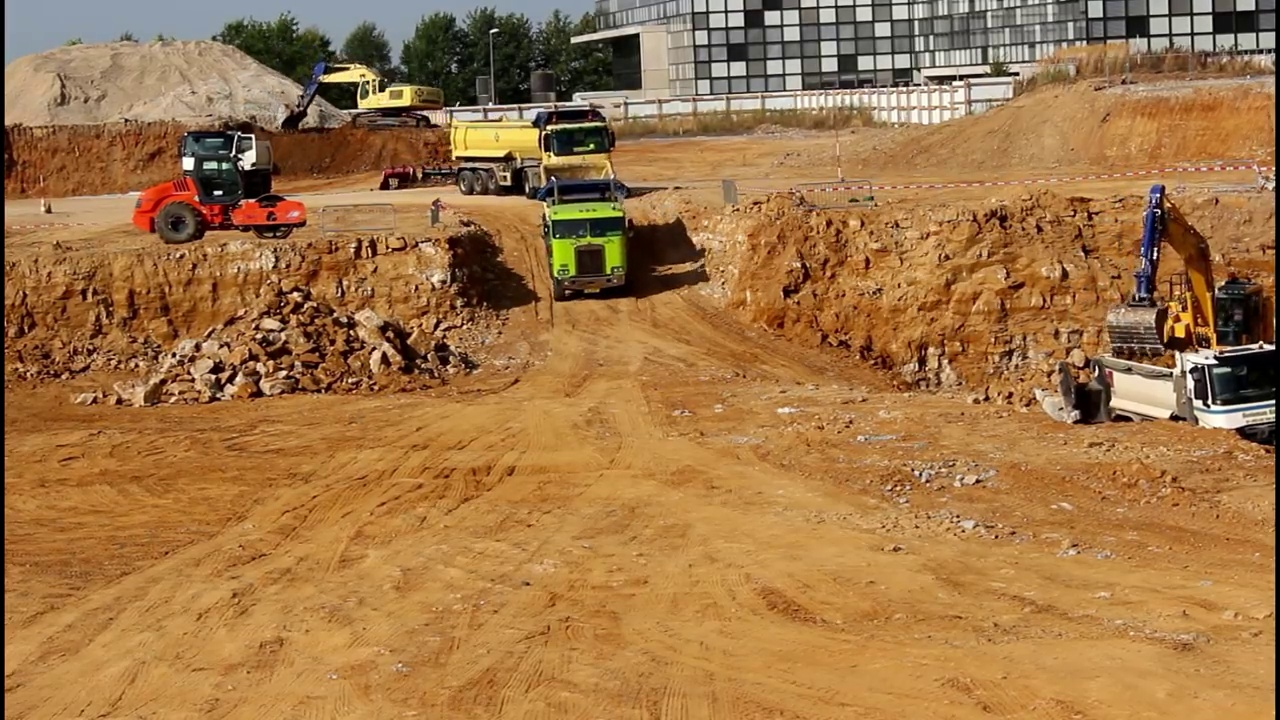compactor: (130, 155, 311, 244)
excavator: (1099, 176, 1280, 412), (449, 103, 622, 200), (274, 58, 447, 134)
truck: (1090, 331, 1280, 482), (529, 150, 643, 302), (178, 124, 283, 212)
